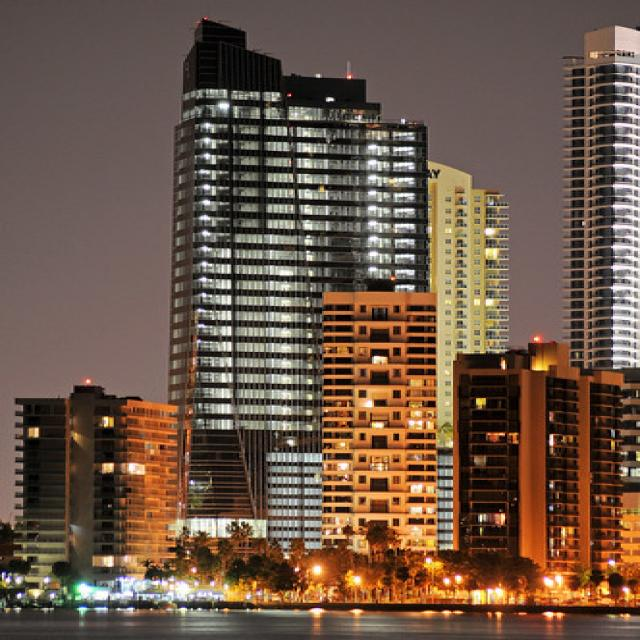Normal_building: (161, 18, 518, 594), (449, 338, 638, 608), (9, 382, 188, 606)
